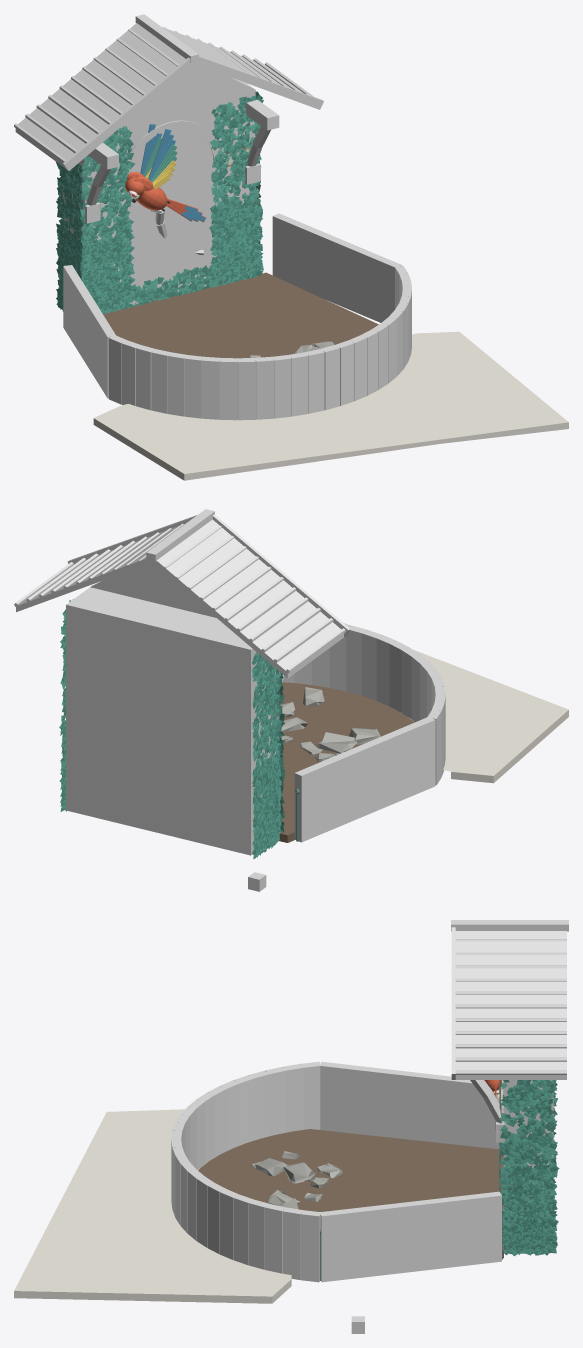
File: PA_papegaai.fbx
The picture shows the model from 3 angles, top to bottom: view 1: azimuth 30°, elevation 25°; view 2: azimuth 150°, elevation 25°; view 3: azimuth 270°, elevation 25°; orthographic projection. The views are drawn at different scales.
Visible parts, largest first — view 1: static__MAT_grind_0, static__MAT_groen_1, static__MAT_aarde_0, static__TEX_pannen_0, COLL_0, static__TEX_hout_0, COLL_28, static__MAT_groen_2, COLL_1, static__MAT_rood_0, COLL_8, COLL_12 (+19 smaller); view 2: static__TEX_baksteen_0, static__TEX_pannen_0, COLL_1, static__MAT_grind_0, static__MAT_aarde_0, static__MAT_groen_1, static__TEX_hout_0, COLL_0, static__MAT_rots_0, static__MAT_groen_2, COLL_14, COLL_13 (+7 smaller); view 3: static__MAT_grind_0, static__TEX_pannen_0, static__MAT_aarde_0, COLL_28, COLL_1, static__MAT_groen_1, static__TEX_hout_0, static__MAT_rots_0, static__MAT_groen_2, COLL_27, COLL_26, COLL_2 (+17 smaller).
Part boxes in pixels (box(x1,y1,x2,y2)): static__MAT_grind_0: box(93, 331, 568, 480); static__MAT_groen_1: box(56, 91, 263, 314); static__MAT_aarde_0: box(103, 272, 378, 358); static__TEX_pannen_0: box(14, 23, 313, 169); COLL_0: box(62, 78, 255, 304); static__TEX_hout_0: box(63, 14, 323, 223); COLL_28: box(272, 213, 402, 322); static__MAT_groen_2: box(57, 93, 263, 313); COLL_1: box(63, 265, 115, 398); static__MAT_rood_0: box(125, 147, 251, 221); COLL_8: box(202, 356, 220, 419); COLL_12: box(272, 355, 291, 418); static__TEX_baksteen_0: box(66, 588, 275, 855); static__TEX_pannen_0: box(14, 519, 345, 678); COLL_1: box(294, 717, 435, 842); static__MAT_grind_0: box(344, 623, 568, 783); static__MAT_aarde_0: box(279, 682, 414, 842); static__MAT_groen_1: box(59, 599, 285, 859); static__TEX_hout_0: box(67, 509, 350, 720); COLL_0: box(66, 587, 276, 854); static__MAT_rots_0: box(279, 687, 380, 762); static__MAT_groen_2: box(61, 609, 284, 855); COLL_14: box(346, 625, 367, 695); COLL_13: box(362, 630, 382, 700); static__MAT_grind_0: box(14, 1109, 291, 1303); static__TEX_pannen_0: box(455, 931, 566, 1079); static__MAT_aarde_0: box(198, 1129, 503, 1258); COLL_28: box(320, 1191, 501, 1282); COLL_1: box(319, 1061, 501, 1149); static__MAT_groen_1: box(499, 1080, 559, 1256); static__TEX_hout_0: box(451, 920, 568, 1142); static__MAT_rots_0: box(252, 1151, 342, 1209); static__MAT_groen_2: box(499, 1080, 556, 1255); COLL_27: box(300, 1210, 321, 1282); COLL_26: box(282, 1207, 303, 1279); COLL_2: box(301, 1061, 320, 1129).
Size of the model in its own units: 6.8 by 6.81 by 8.38.
